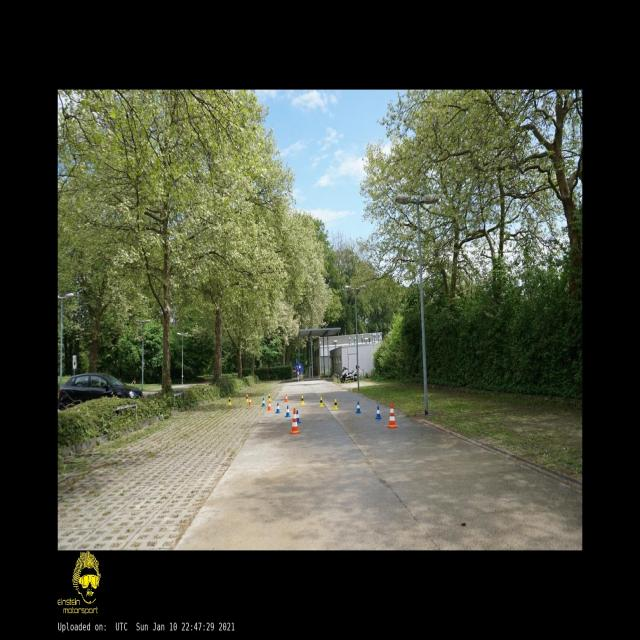blue_cone: (376, 406, 382, 419), (296, 410, 301, 423), (285, 405, 290, 417), (356, 402, 361, 413), (276, 402, 280, 413), (262, 398, 266, 406)
large_orange_cone: (387, 402, 397, 428), (290, 407, 300, 433)
orange_cone: (267, 401, 272, 410), (248, 396, 252, 406), (284, 394, 288, 402)
yellow_cone: (318, 397, 324, 407), (333, 399, 338, 410), (300, 396, 305, 405), (245, 394, 249, 403), (228, 397, 231, 405), (268, 394, 271, 401)
